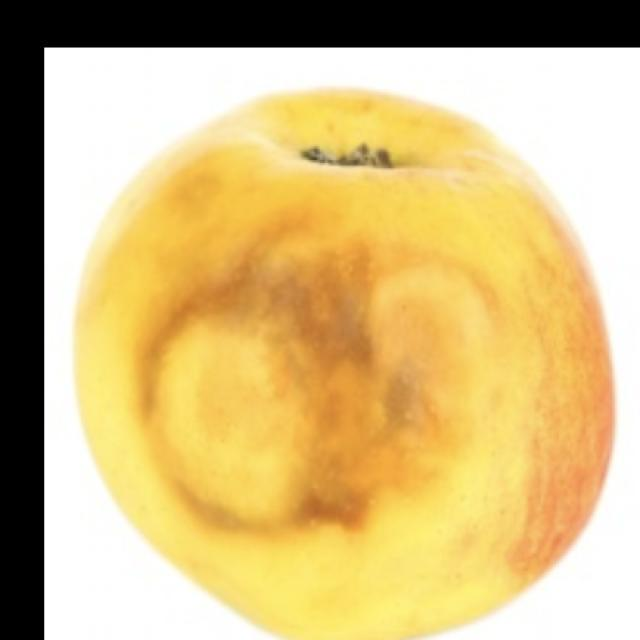Rotten: (63, 84, 617, 634)
